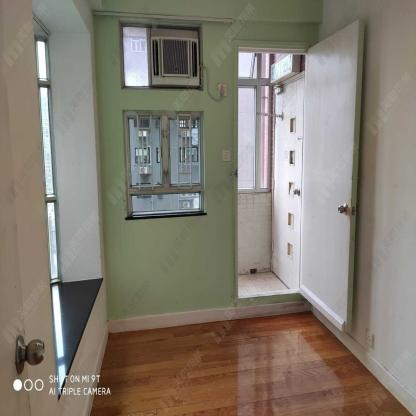AC: (150, 35, 200, 87)
